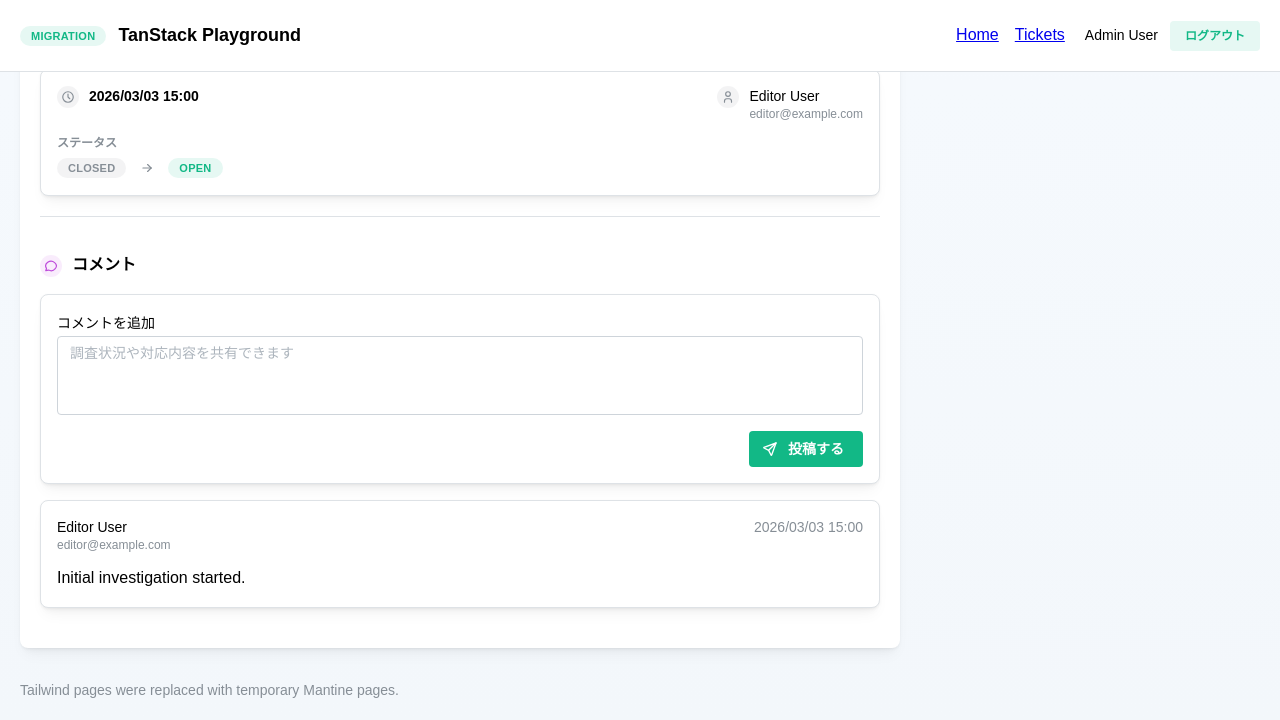
ticket CRUD routes › allows retrying a failed comment deletion for the same comment
(page scrolled)
Expected: the text "Initial investigation started." is shown, x1=57 y1=569 x2=246 y2=586
In the text box labelled "コメントを追加": (460, 376) x1=57 y1=336 x2=863 y2=415, type "We are investigating this now."
Click the button "投稿する": (806, 449) x1=749 y1=431 x2=863 y2=467
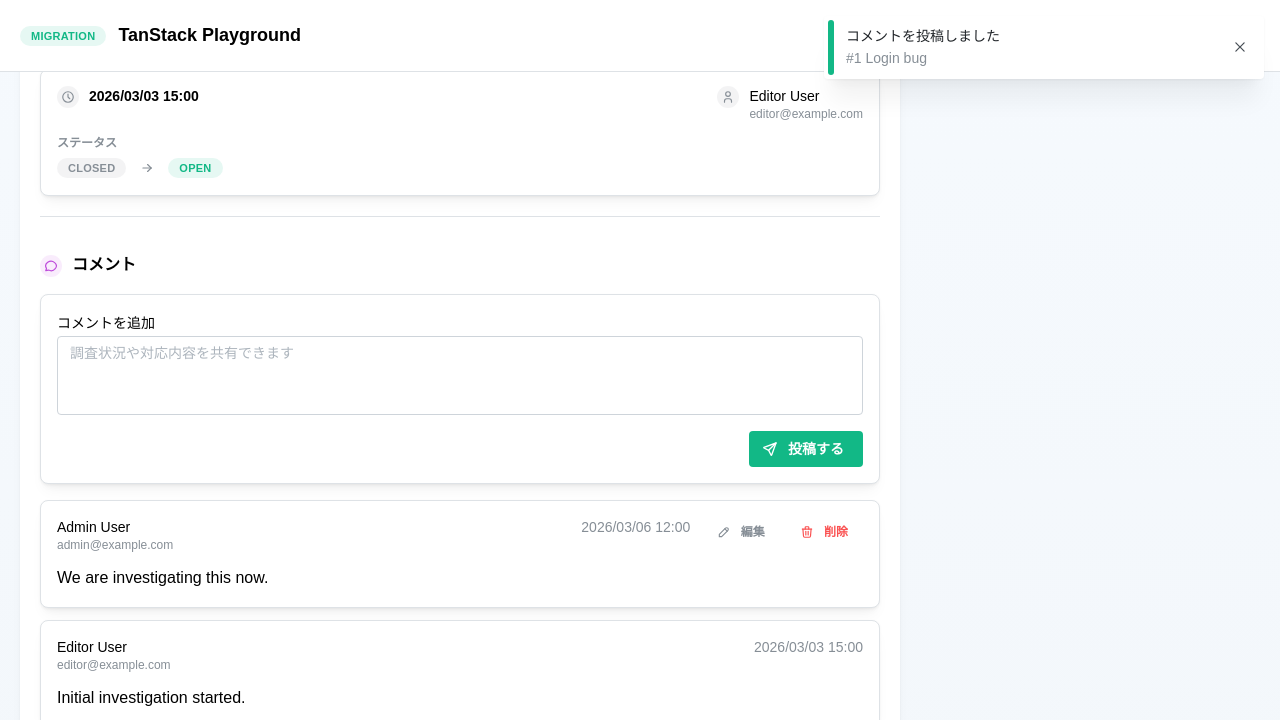
Now the text "We are investigating this now." is shown, box x1=57 y1=569 x2=268 y2=586
Click the button with aria-label "コメント 102 を削除": (826, 532) x1=790 y1=517 x2=863 y2=547
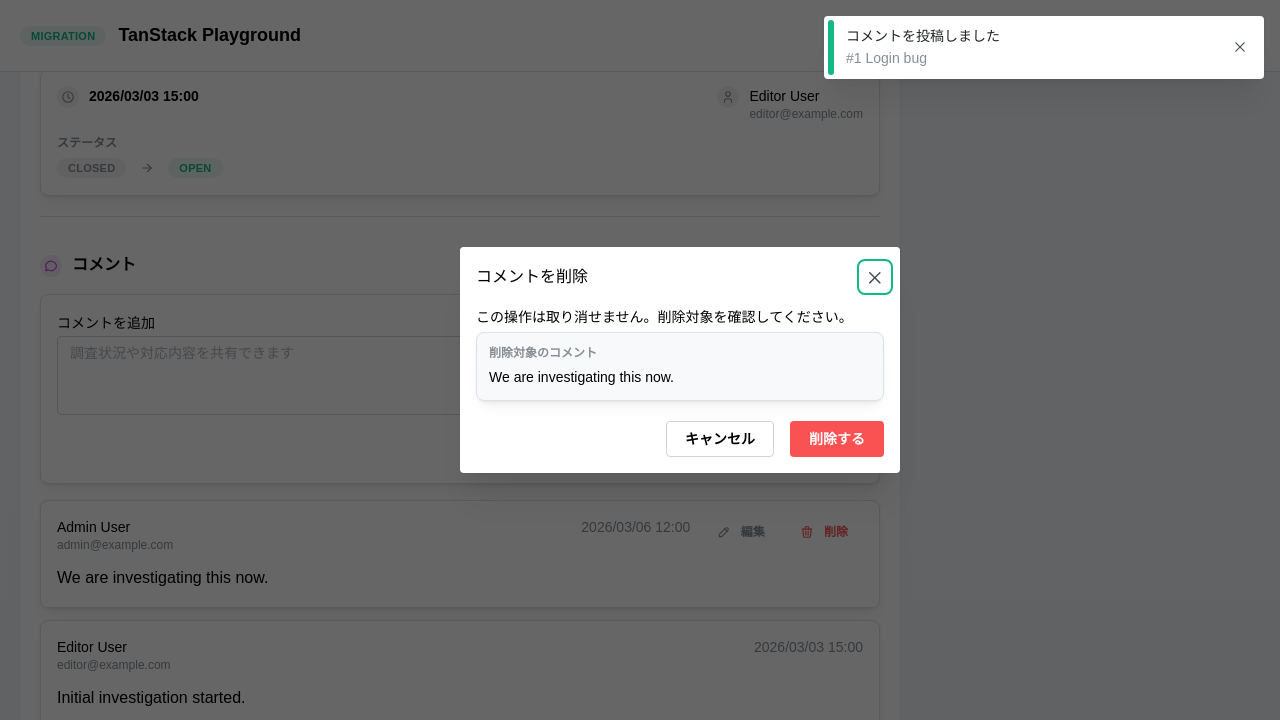
Click the button "削除する": (837, 439) x1=790 y1=421 x2=884 y2=457
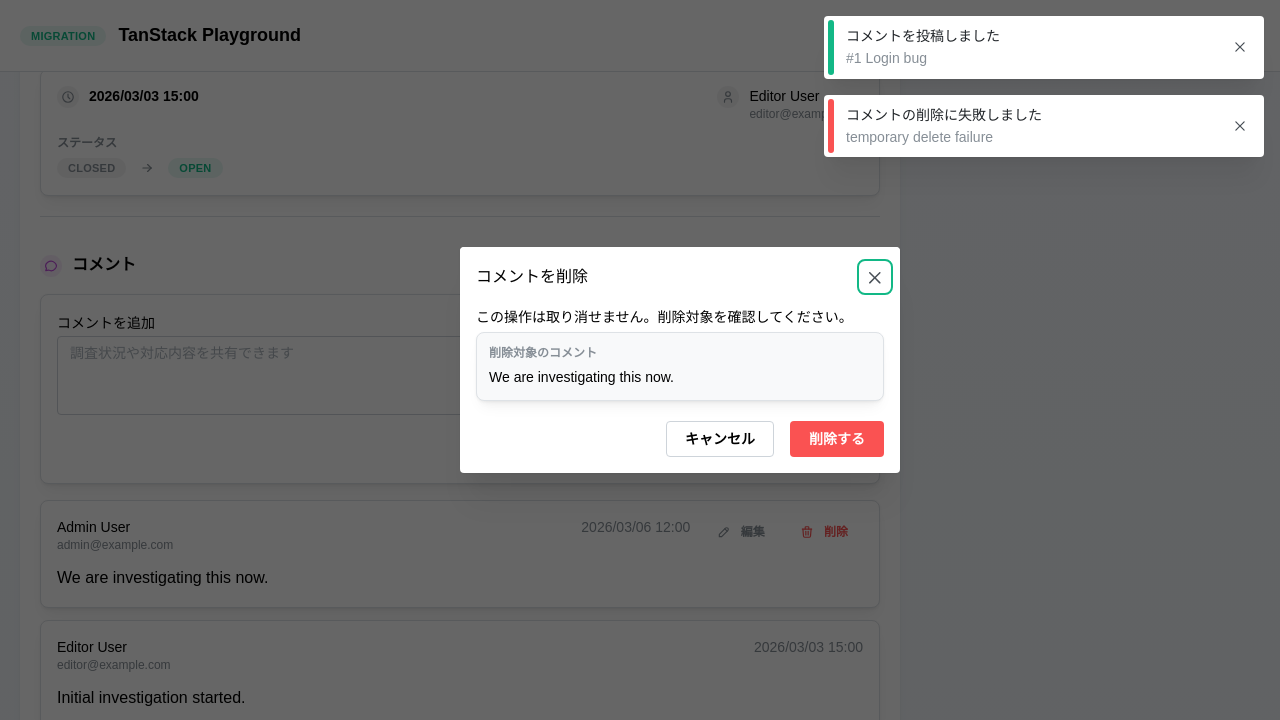
Now the text "コメントの削除に失敗しました" is shown, box x1=846 y1=107 x2=1042 y2=123
Click the button "キャンセル": (720, 439) x1=666 y1=421 x2=774 y2=457
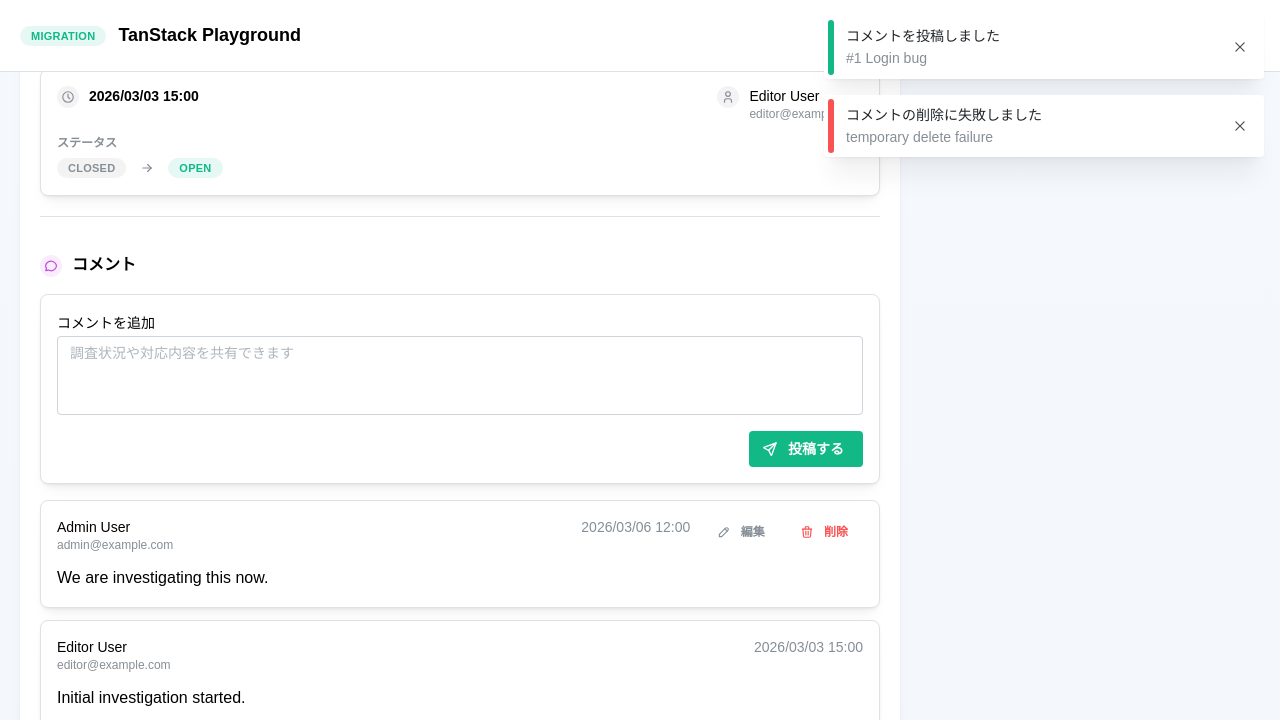
Now the heading "コメントを削除" is gone
Click the button with aria-label "コメント 102 を削除": (826, 532) x1=790 y1=517 x2=863 y2=547
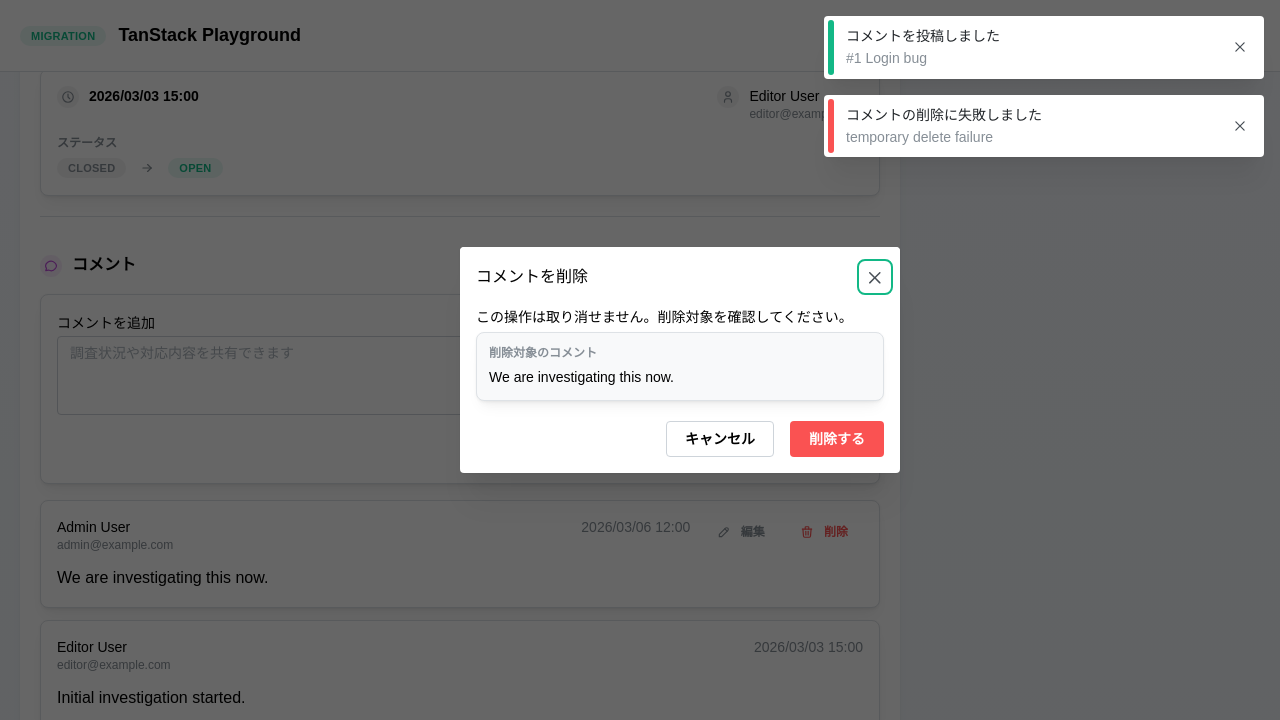
Now the button "削除する" is enabled
Click the button "削除する": (837, 439) x1=790 y1=421 x2=884 y2=457
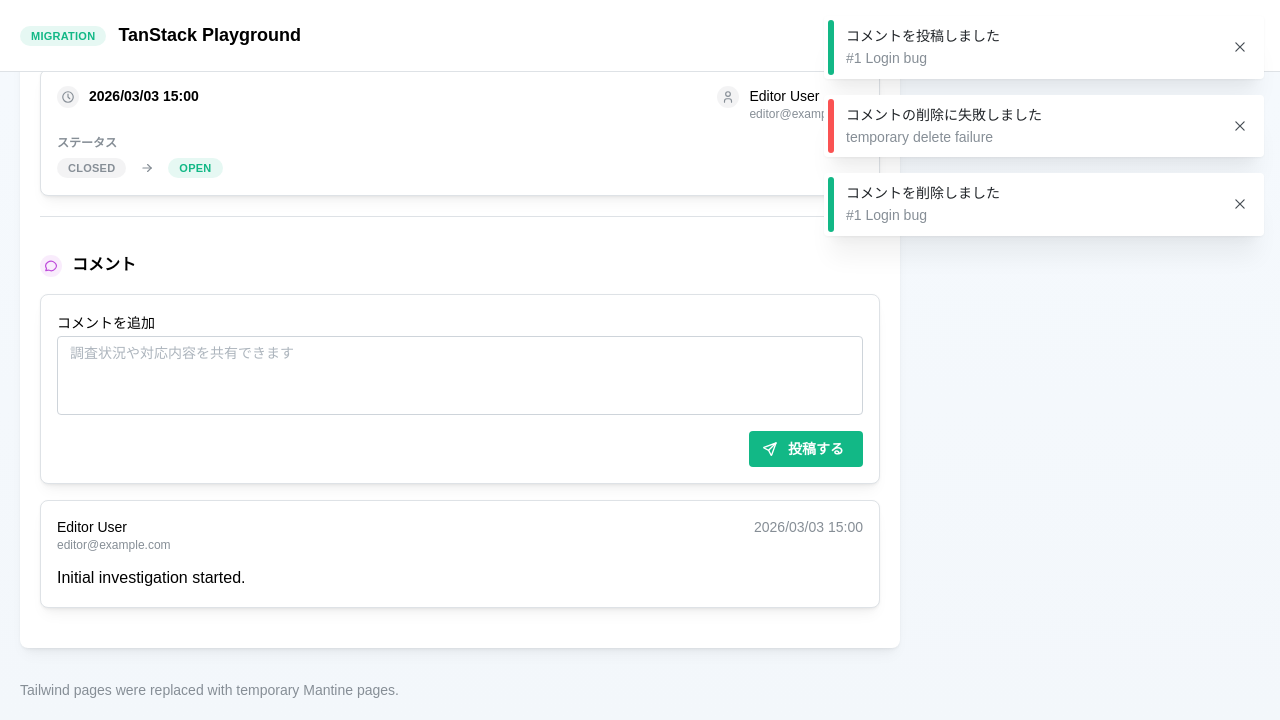
Now the text "コメントを削除しました" is shown, box x1=846 y1=185 x2=1000 y2=201
Now the text "We are investigating this now." is gone
